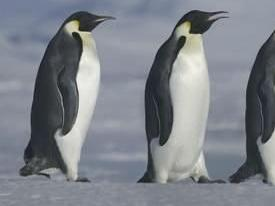Emperor Penguin: (134, 0, 235, 206), (19, 0, 120, 197), (241, 0, 275, 198)
